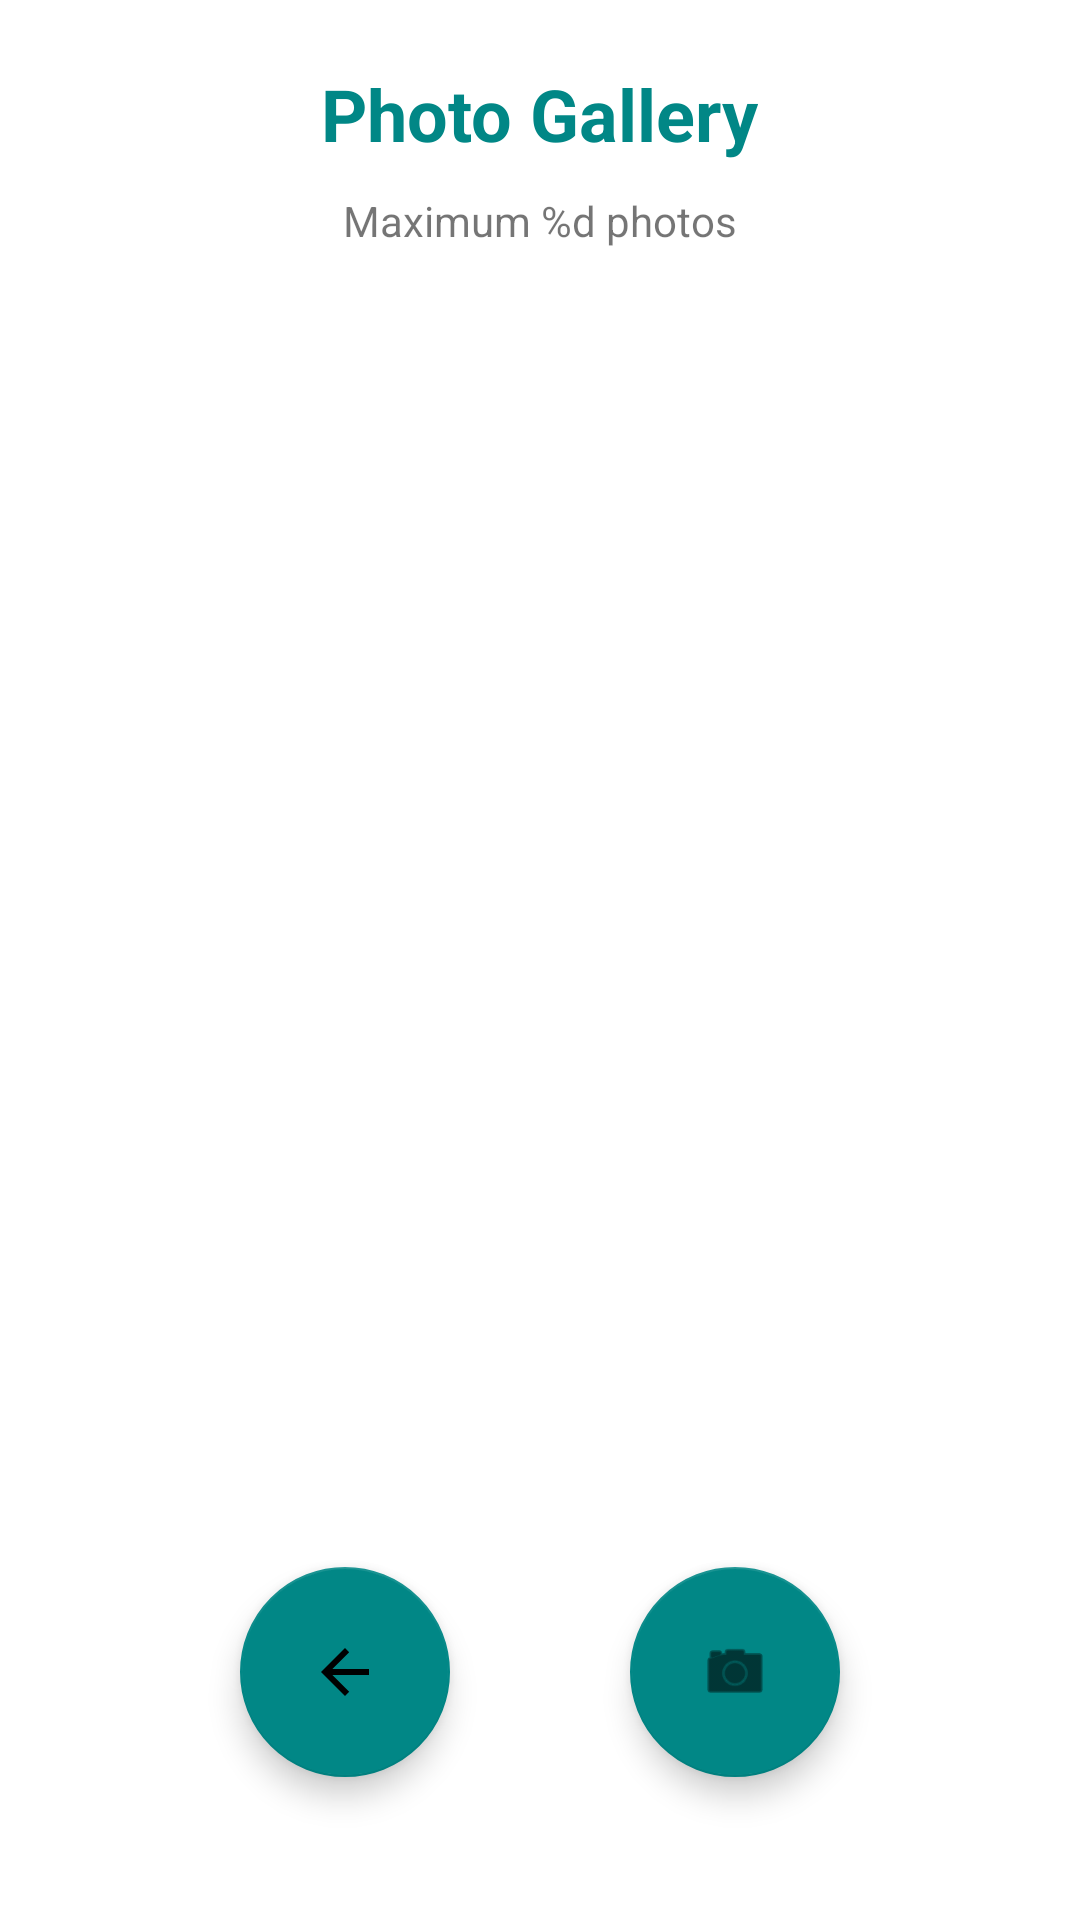

Point at icon controls on the screen. Image size 1080*1920, points as (x=x, y=y).
Add a picture to the case: (x=735, y=1672)
